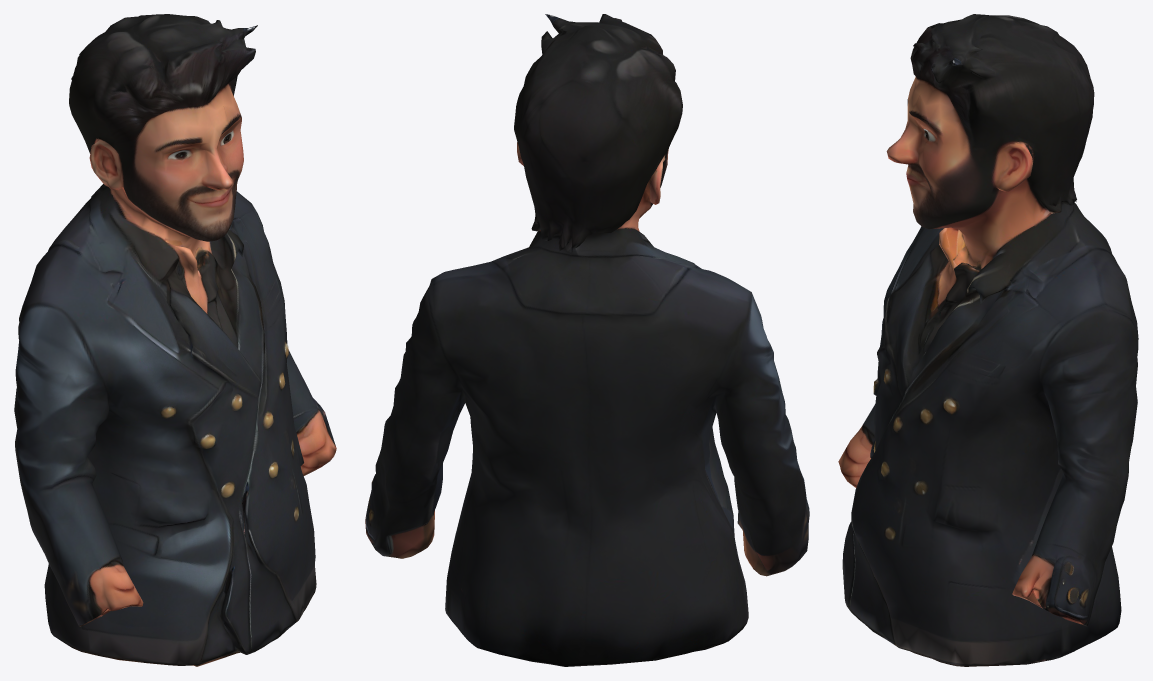
Rendered from as modal.glb.
The picture shows the model from 3 angles, left to right: view 1: azimuth 30°, elevation 25°; view 2: azimuth 150°, elevation 25°; view 3: azimuth 270°, elevation 25°; orthographic projection.
Bounding box in the file's own units: 1.28 × 2 × 0.9108.
Materials: 1 (1 with a texture image).
